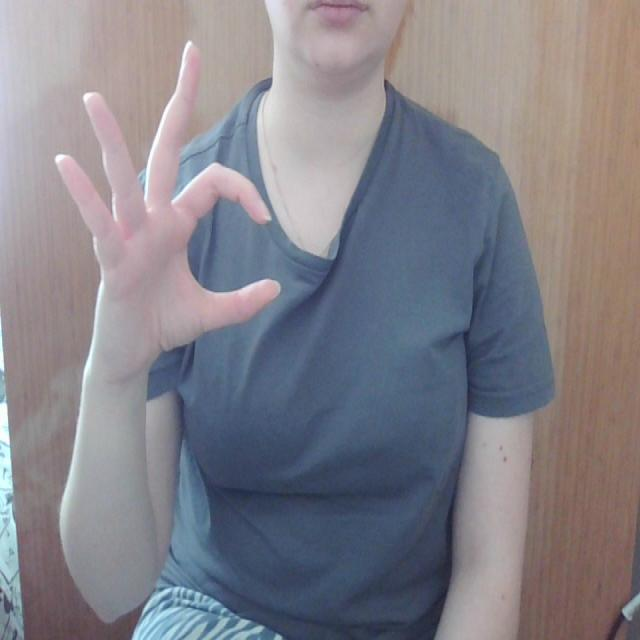Tuvalet: (52, 31, 282, 353)
